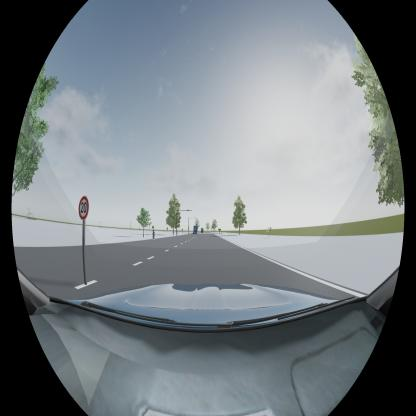Speed Limit 20: (79, 195, 89, 220)
